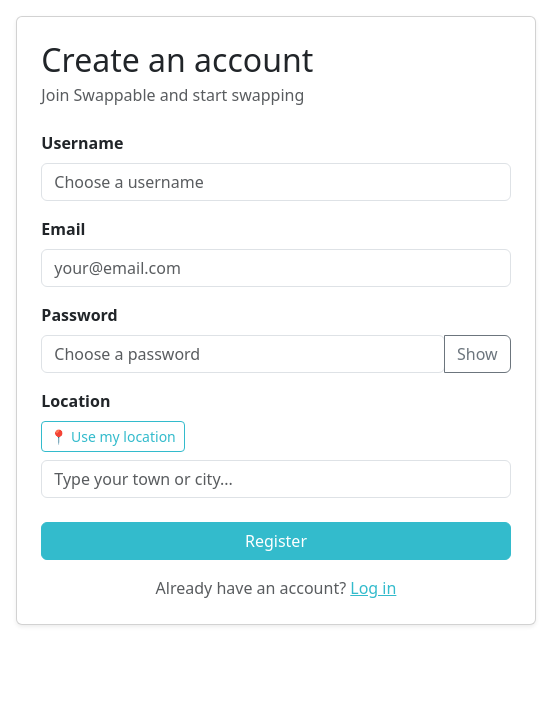
Test: RegisterPage › displays an error returned by the registration API
This screenshot has width=553, height=712.
Step 1. Type "joeuser" into the field with placeholder "Choose a username" → (276, 182), box [41,163,511,201]
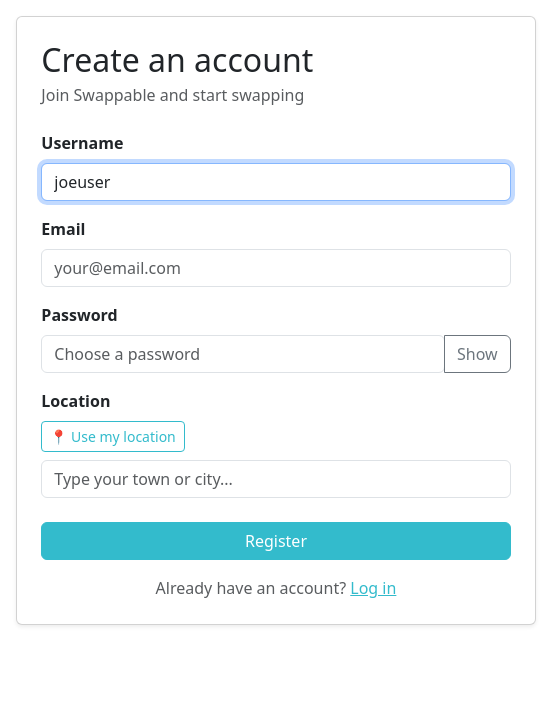
Step 2. Type "joe@example.com" into the field with placeholder "your@email.com" → (276, 268), box [41,249,511,287]
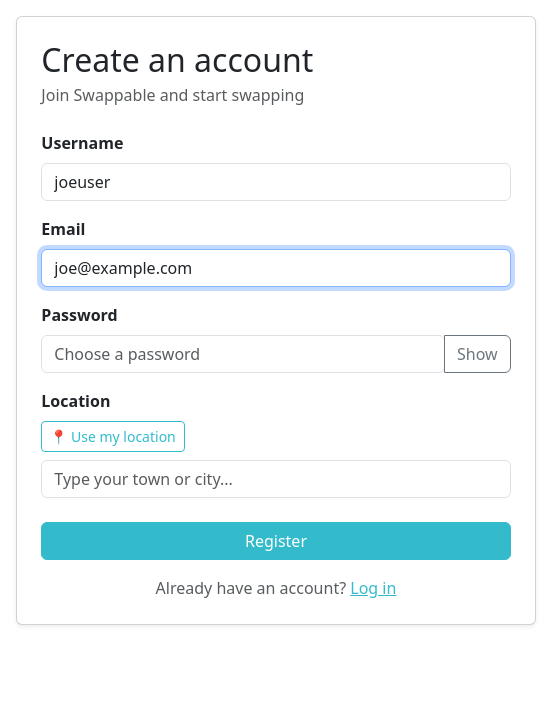
Step 3. Type "Password123!" into the password field with placeholder "Choose a password" → (243, 354), box [41,335,445,373]
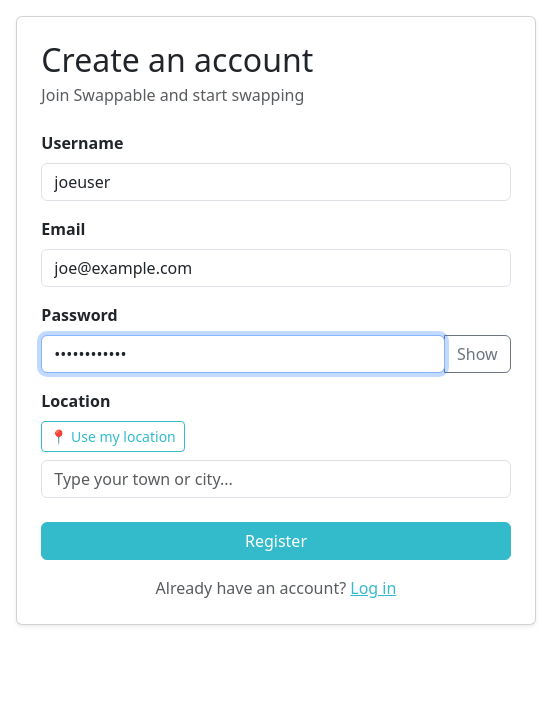
Step 4. Click the button "Register" → (276, 541), box [41,522,511,560]
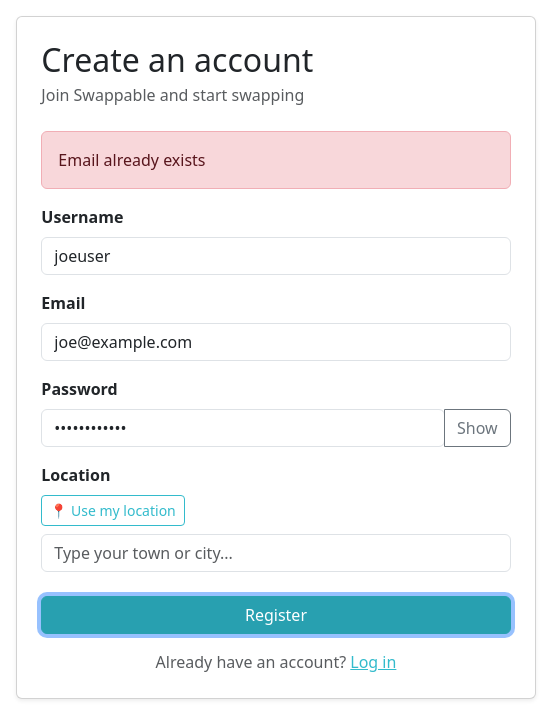
Expected: the text "Email already exists" is shown, [41,131,511,189]
